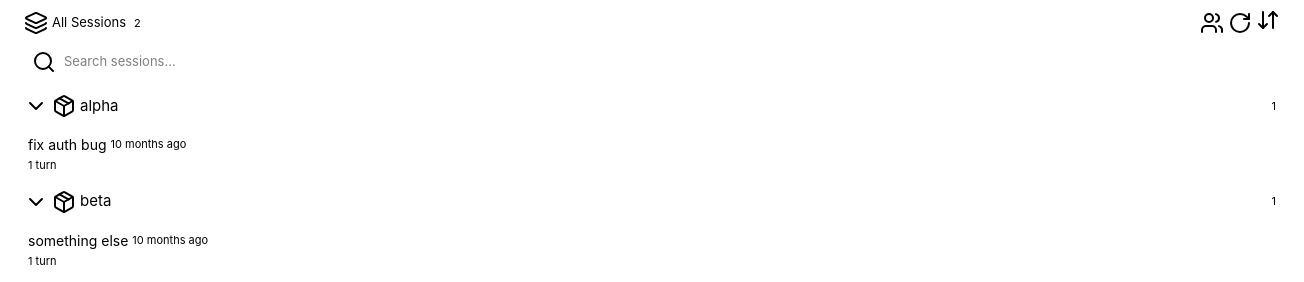
Test: SessionsNavigation: search filtering › typing in the search box filters to matching projects and sessions
Type "auth" into the field named "Search sessions" at (668, 62), box [64,52,1272,72]
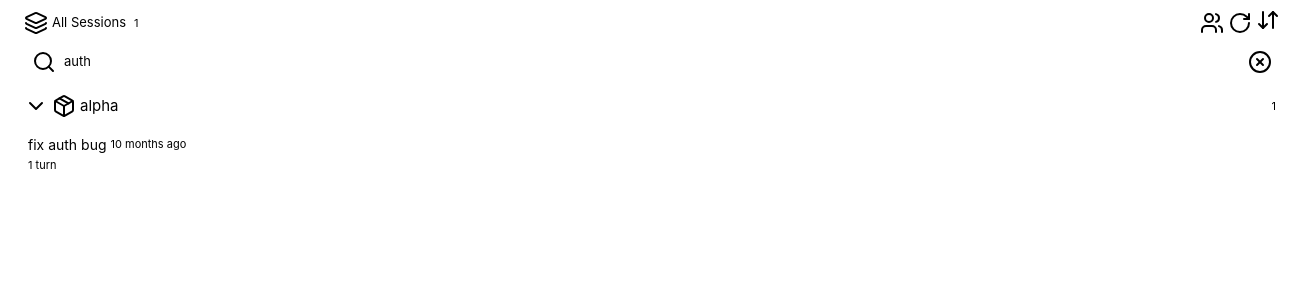
Check: the text "alpha" is shown, box [80,96,118,115]
Check: the text "beta" is gone
